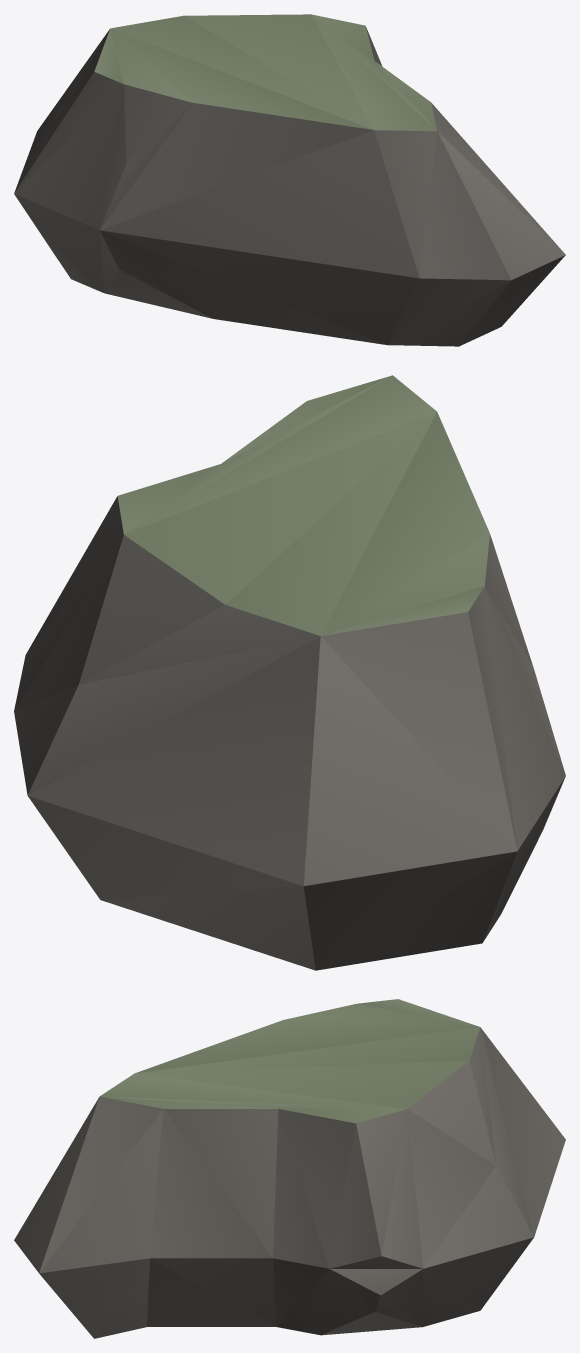
Rendered from rockB.glb.
3 views of the same model, one above another, from view 1: azimuth 30°, elevation 25°; view 2: azimuth 150°, elevation 25°; view 3: azimuth 270°, elevation 25° (orthographic). The views are drawn at different scales.
Parts seen in each view (by area): view 1: rock_largeB; view 2: rock_largeB; view 3: rock_largeB.
Boxes of the visible parts, box(x1,y1,x2,y2) form: rock_largeB: box(14, 14, 565, 346); rock_largeB: box(14, 375, 565, 970); rock_largeB: box(14, 999, 565, 1338).
Bounding box in the file's own units: 0.7668 × 0.4303 × 1.02.
